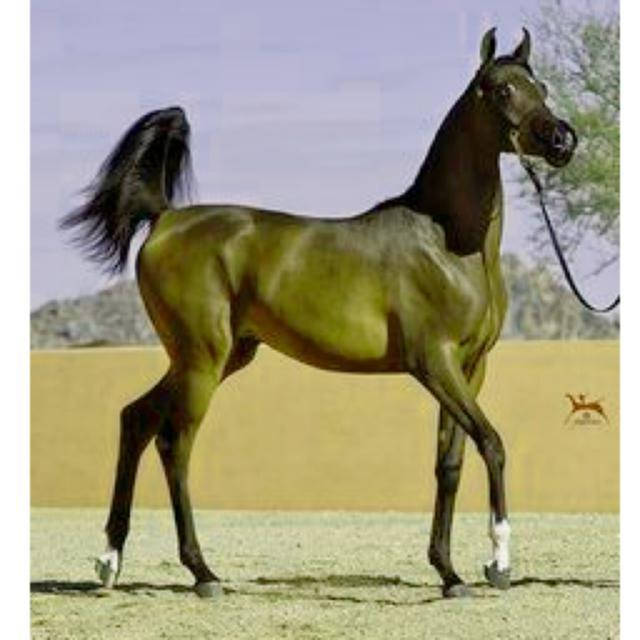Horse: (57, 22, 585, 602)
